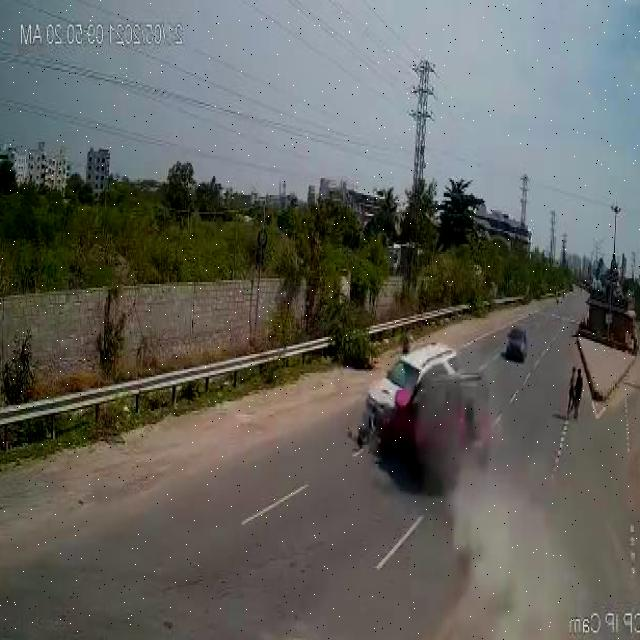accident: (341, 320, 493, 504)
